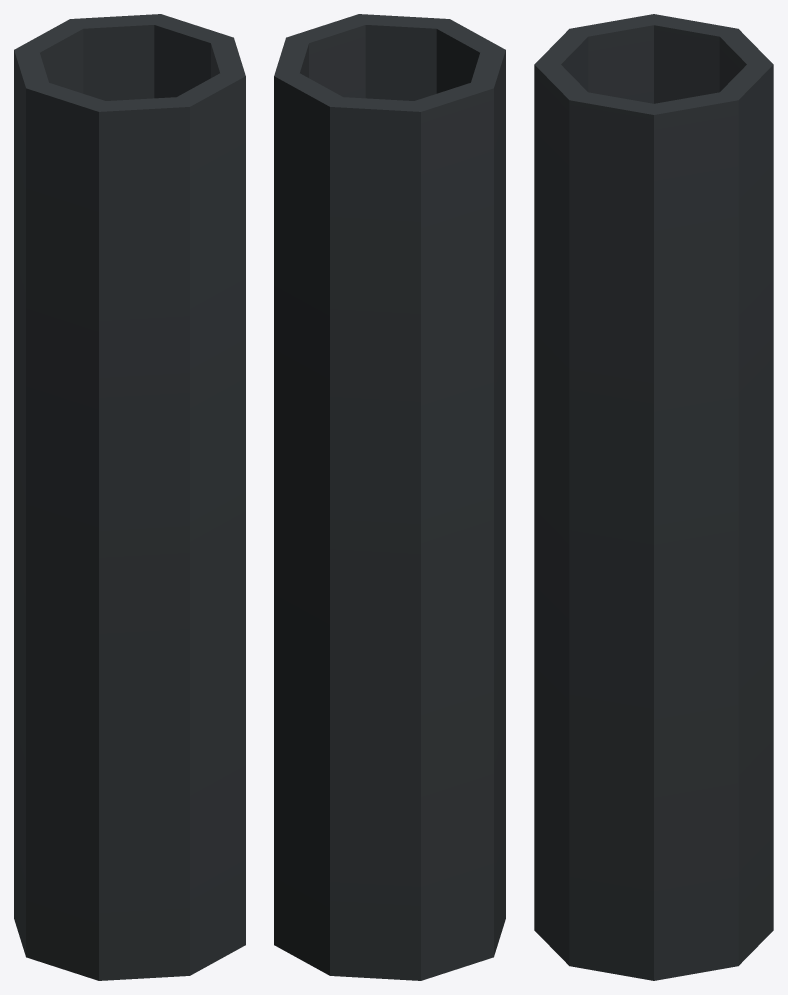
File: HousePart_07.fbx
3 views of the same model, side by side, from view 1: azimuth 30°, elevation 25°; view 2: azimuth 150°, elevation 25°; view 3: azimuth 270°, elevation 25° (orthographic).
Parts seen in each view (by area): view 1: HousePart_07; view 2: HousePart_07; view 3: HousePart_07.
Part boxes in pixels (x1,y1,x2,y2): HousePart_07: (14,14,245,980); HousePart_07: (274,14,505,980); HousePart_07: (534,14,773,980).
Bounding box in the file's own units: 0.126 × 0.5034 × 0.126.
